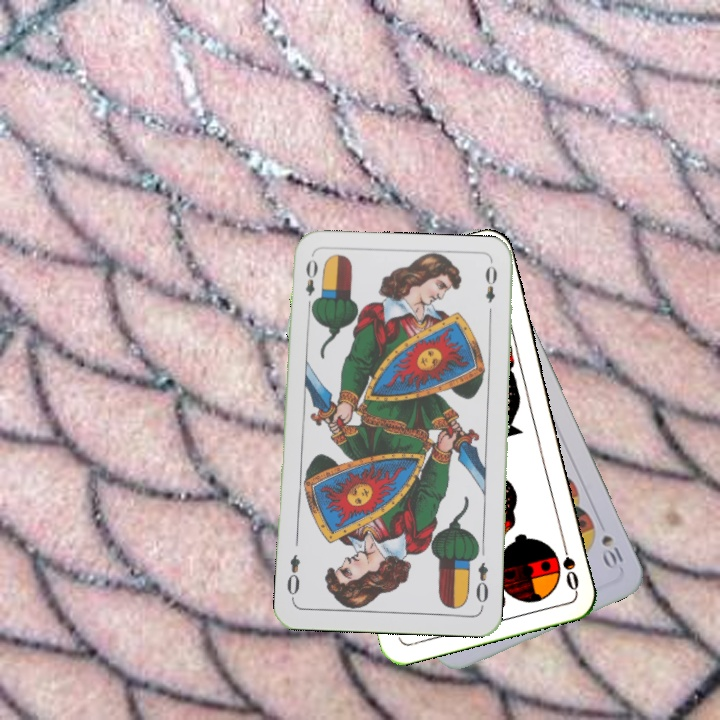EO: (301, 255, 320, 313), (471, 558, 491, 610)
S10: (597, 531, 626, 572)
SO: (558, 535, 582, 594)
